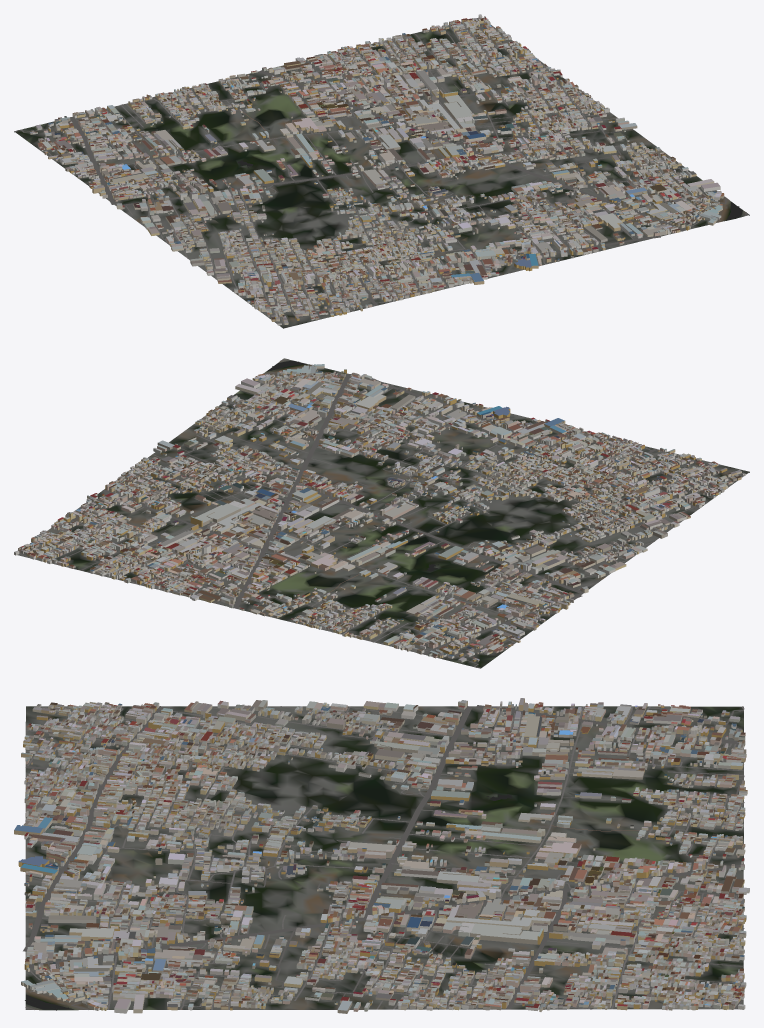
3 views of the same model, one above another, from view 1: azimuth 30°, elevation 25°; view 2: azimuth 150°, elevation 25°; view 3: azimuth 270°, elevation 25° (orthographic). The views are drawn at different scales.
Parts seen in each view (by area): view 1: buildings, ground, roads; view 2: buildings, ground, roads; view 3: buildings, ground, roads.
Boxes of the visible parts, x1,y1,x2,y2 form: buildings: [29, 14, 724, 325]; ground: [14, 18, 749, 328]; roads: [14, 22, 746, 324]; buildings: [14, 364, 745, 662]; ground: [17, 358, 749, 668]; roads: [19, 359, 743, 668]; buildings: [14, 698, 749, 1013]; ground: [25, 706, 743, 1010]; roads: [23, 705, 744, 1009].
Size of the model in its own units: 1431 by 25.92 by 1435.
